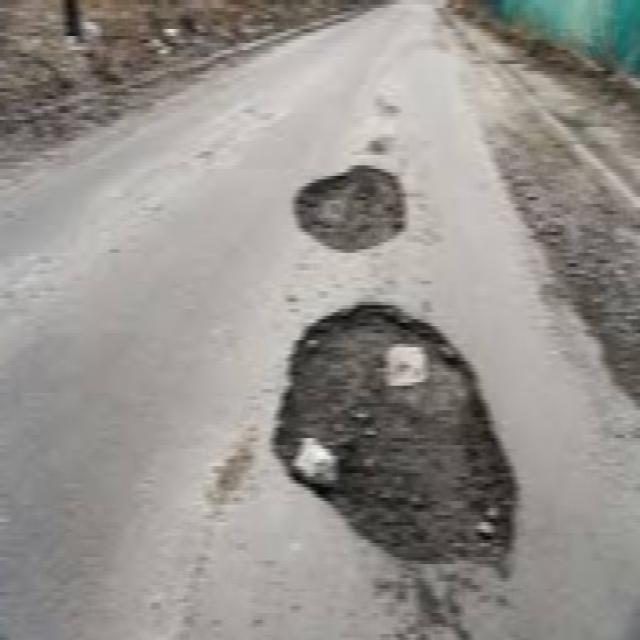Pothole: (268, 295, 554, 593), (292, 161, 431, 259)
